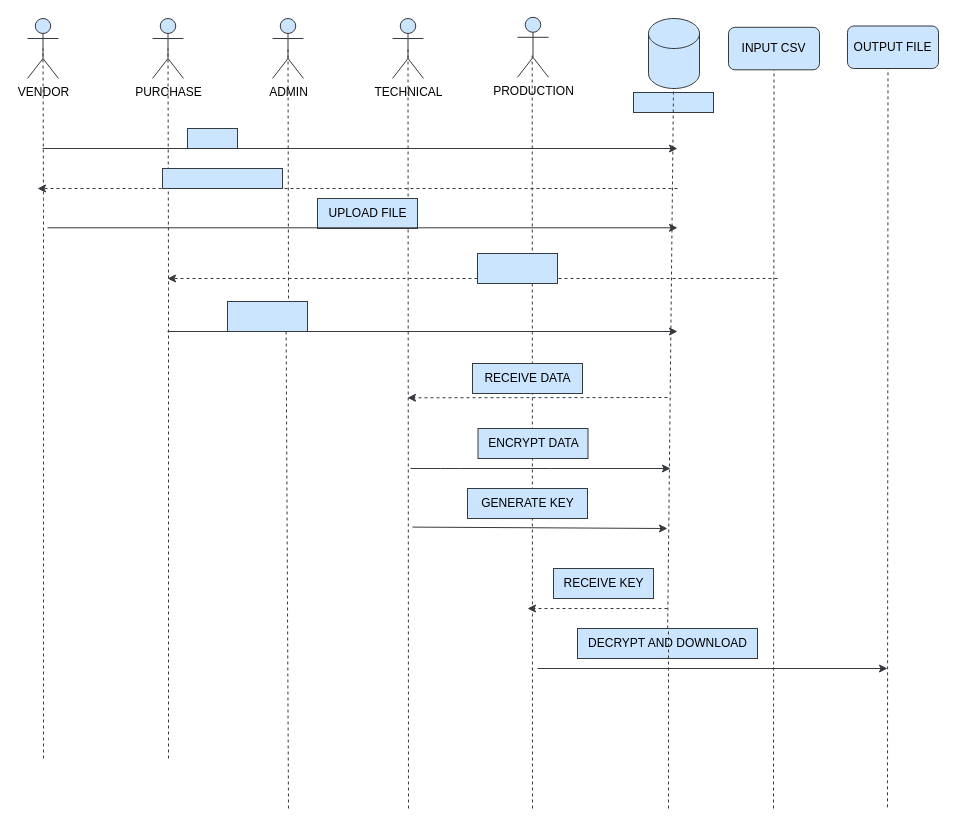
This 956x828 diagram has some shape labels left out. Here are the shapes that lost their labels. From the top down, the centre of each, then its label:
point (673, 102): DATABASE
point (212, 138): LOGIN
point (222, 178): AUTHENTICATION
point (517, 268): GET FILE
point (267, 316): EDIT FILE
